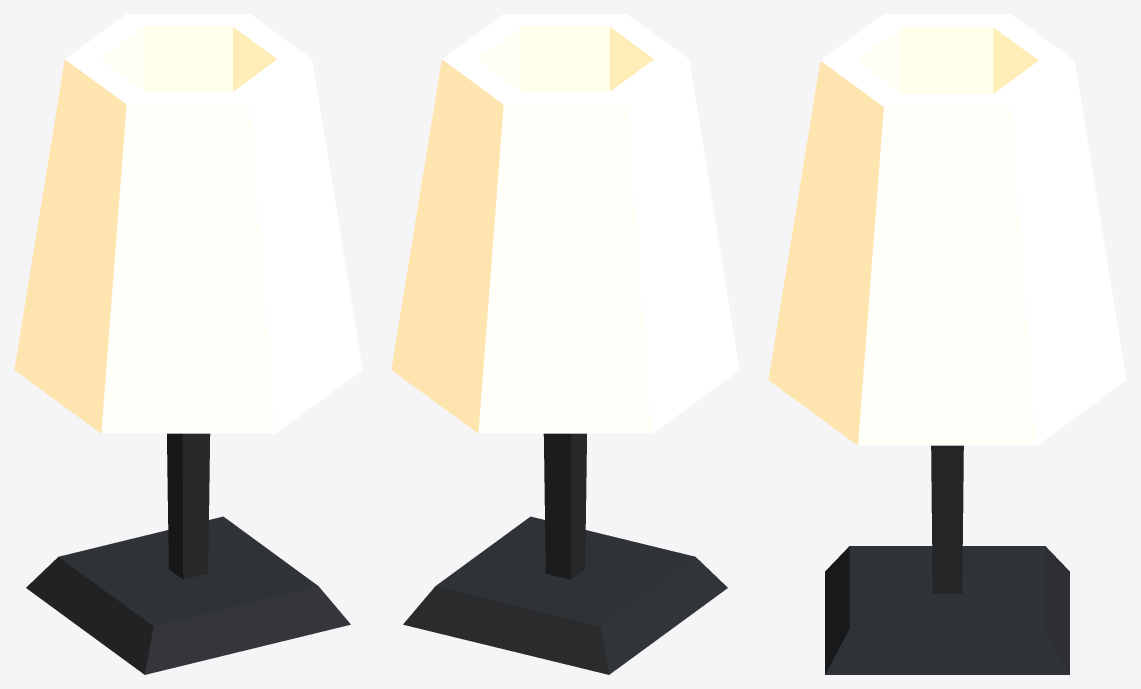
Rendered from lamp-table-round.glb.
The picture shows the model from 3 angles, left to right: view 1: azimuth 30°, elevation 25°; view 2: azimuth 150°, elevation 25°; view 3: azimuth 270°, elevation 25°; orthographic projection. The views are drawn at different scales.
Parts seen in each view (by area): view 1: lamp-table-round; view 2: lamp-table-round; view 3: lamp-table-round.
Boxes of the visible parts, box(x1,y1,x2,y2) form: lamp-table-round: box(14, 14, 362, 674); lamp-table-round: box(391, 14, 739, 674); lamp-table-round: box(768, 14, 1126, 674).
Size of the model in its own units: 0.26 by 0.52 by 0.3.
